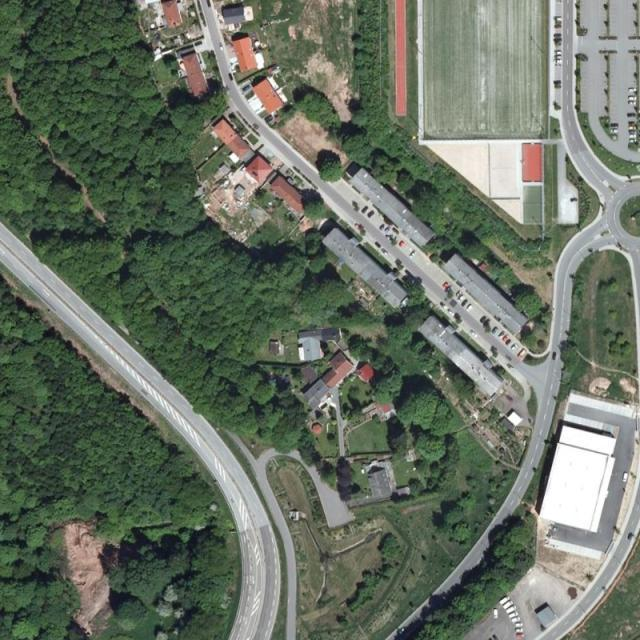vehicle: (505, 605, 518, 615), (502, 600, 514, 610), (499, 596, 510, 606), (518, 349, 527, 359), (466, 304, 474, 313), (498, 331, 506, 340), (410, 250, 418, 259), (381, 247, 389, 256), (361, 206, 370, 214), (508, 612, 518, 619), (622, 473, 629, 483), (511, 617, 522, 623), (506, 394, 514, 402), (506, 363, 514, 371), (510, 343, 518, 351), (502, 334, 510, 342), (505, 354, 513, 362), (440, 302, 448, 310), (461, 299, 469, 307), (457, 295, 465, 303), (374, 241, 382, 249), (392, 226, 400, 234), (398, 240, 406, 248), (383, 226, 391, 234), (367, 210, 375, 218), (242, 85, 251, 92), (514, 622, 524, 628), (505, 338, 512, 346), (470, 331, 478, 338), (491, 327, 498, 335), (480, 315, 487, 323), (448, 310, 455, 318), (455, 290, 462, 298), (379, 223, 386, 231), (355, 223, 362, 231), (194, 41, 203, 47), (552, 352, 557, 362), (446, 286, 453, 293), (628, 533, 634, 541), (229, 73, 234, 82), (219, 42, 224, 51), (554, 80, 562, 85), (628, 96, 638, 100), (494, 609, 498, 619), (629, 88, 638, 92), (628, 101, 637, 105), (629, 130, 638, 134), (492, 634, 498, 640), (516, 634, 525, 638), (442, 282, 448, 288), (516, 628, 523, 633), (610, 123, 618, 127), (610, 130, 618, 134), (554, 55, 562, 59), (554, 51, 562, 55), (554, 38, 562, 42), (554, 34, 562, 38), (554, 25, 562, 29), (628, 114, 636, 118), (630, 139, 638, 143), (630, 134, 638, 138), (629, 126, 637, 130), (554, 60, 562, 63), (639, 110, 640, 114), (639, 114, 640, 118), (639, 130, 640, 134), (639, 134, 640, 137)
